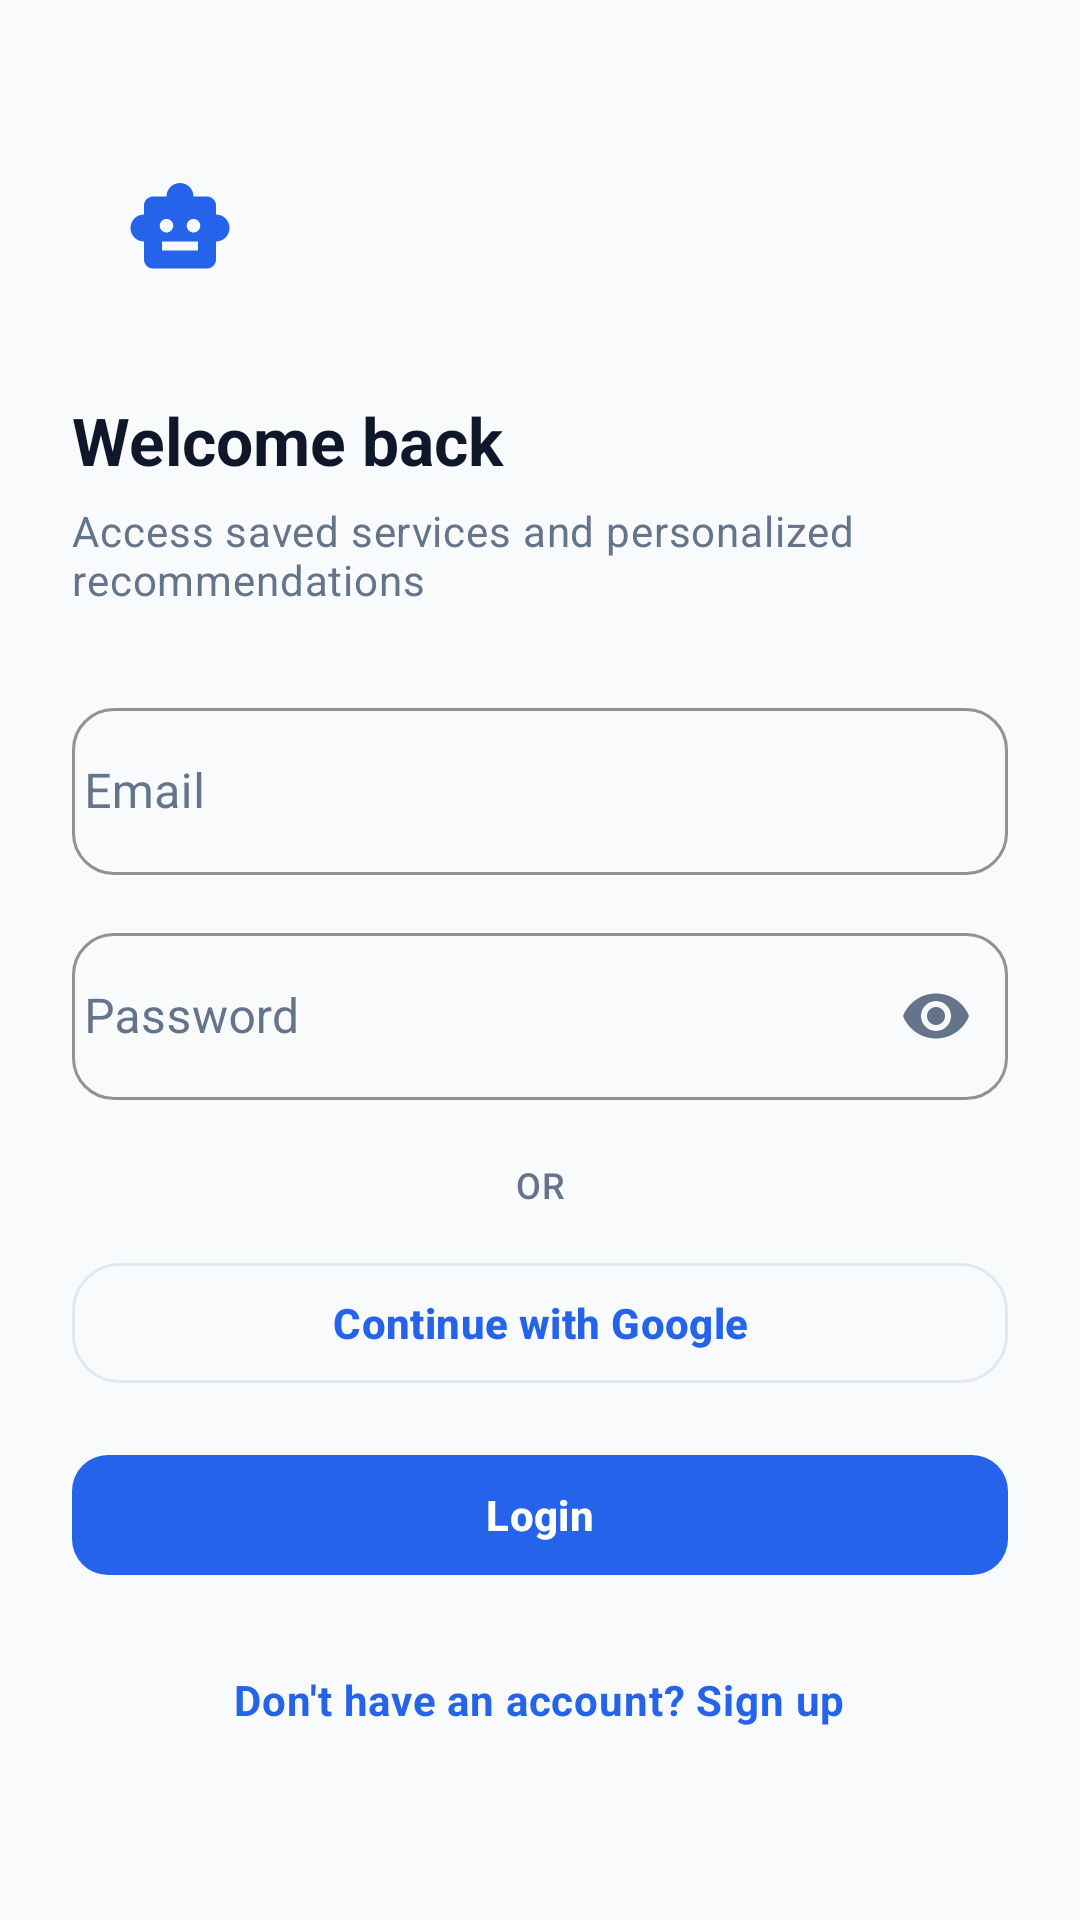

Point at icon controls on the screen. Image size 1080px×1920px, points as [x,y].
robot: [180,226]
